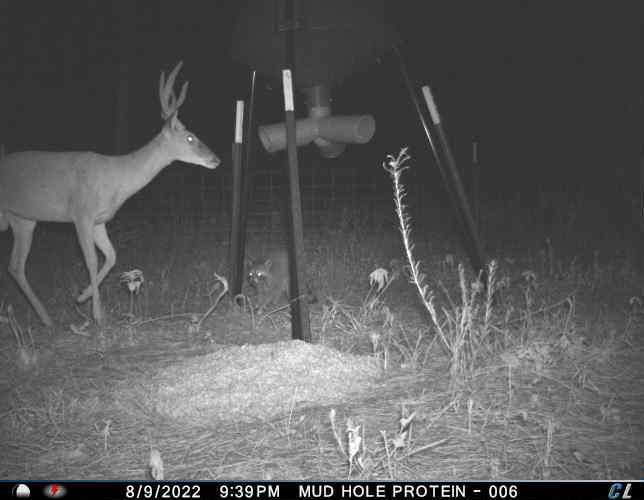Deer: (1, 56, 225, 337)
Raccoon: (242, 241, 299, 319)
